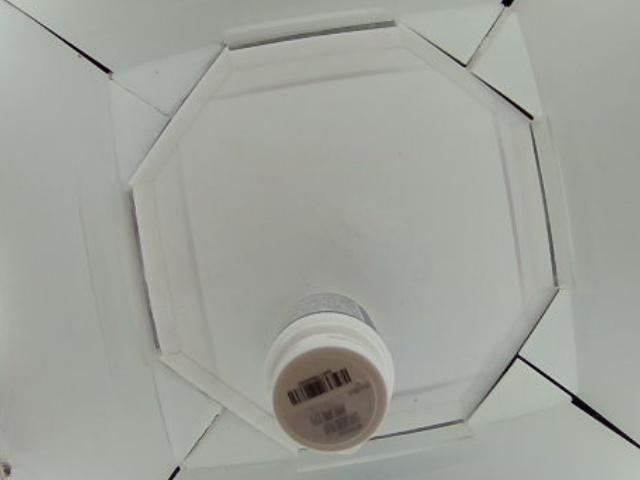Bottle: (268, 293, 396, 454)
